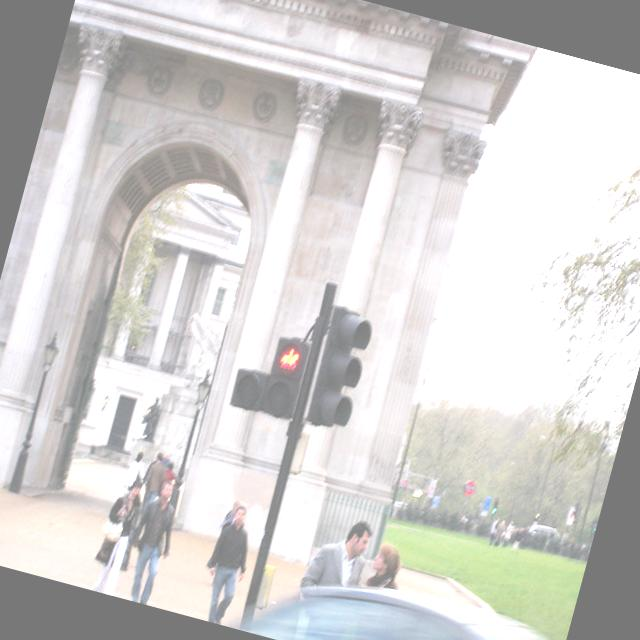Vehicle: (237, 546, 568, 640), (528, 522, 562, 542)
